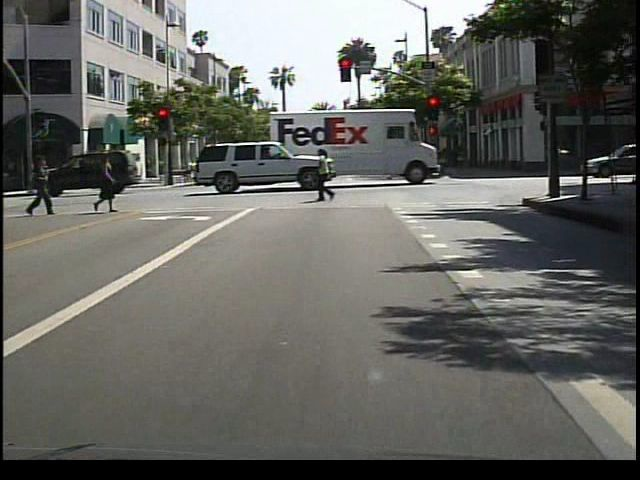person: (31, 153, 62, 216), (311, 147, 343, 206), (94, 152, 122, 216)
